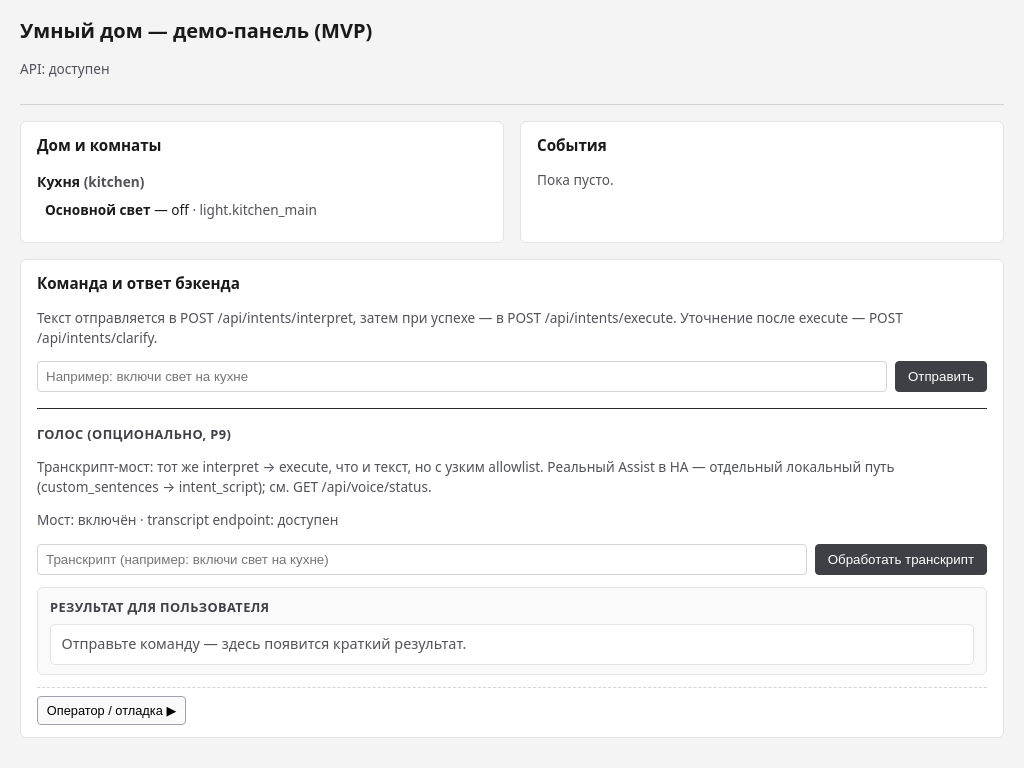
it: App P9 voice transcript strip › loads voice status and submits transcript via POST /api/voice/transcript
Expected: the element with test id "house-state" is shown, [37, 172, 317, 219]
Expected: the text with test id "voice-status-line" shows "Мост: включён", [37, 510, 338, 529]
Type "включи свет на кухне" into the field with test id "voice-transcript-input" at (422, 559), box [37, 544, 807, 575]
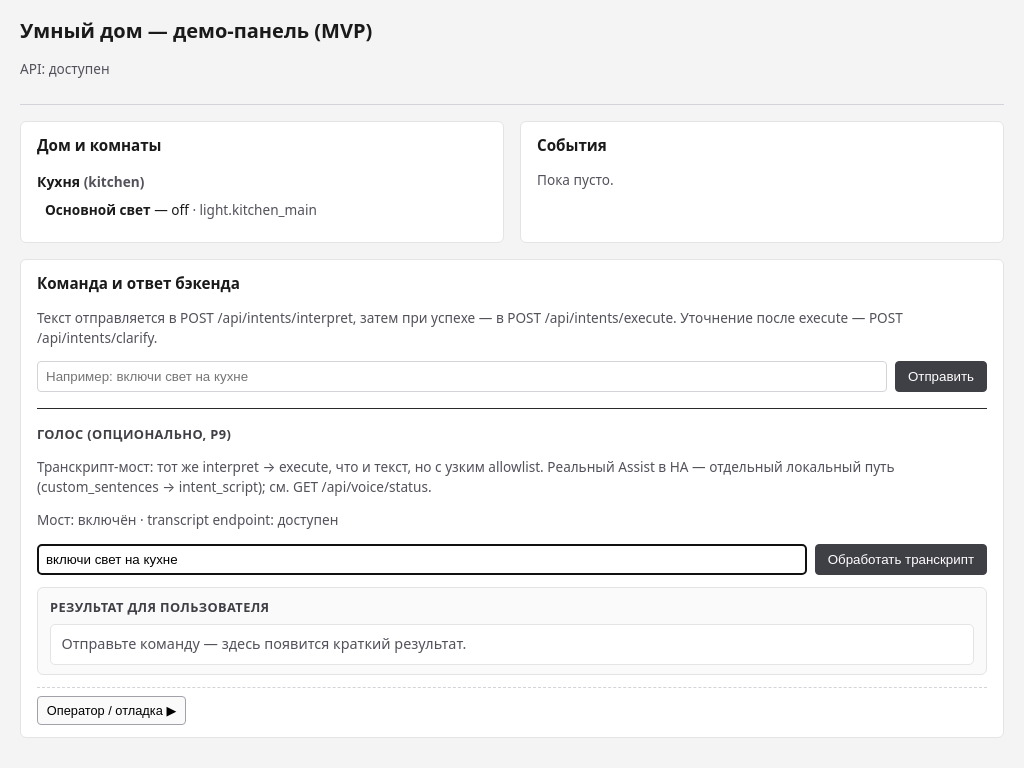
Click the button with test id "voice-transcript-submit" at (901, 559), box [815, 544, 987, 575]
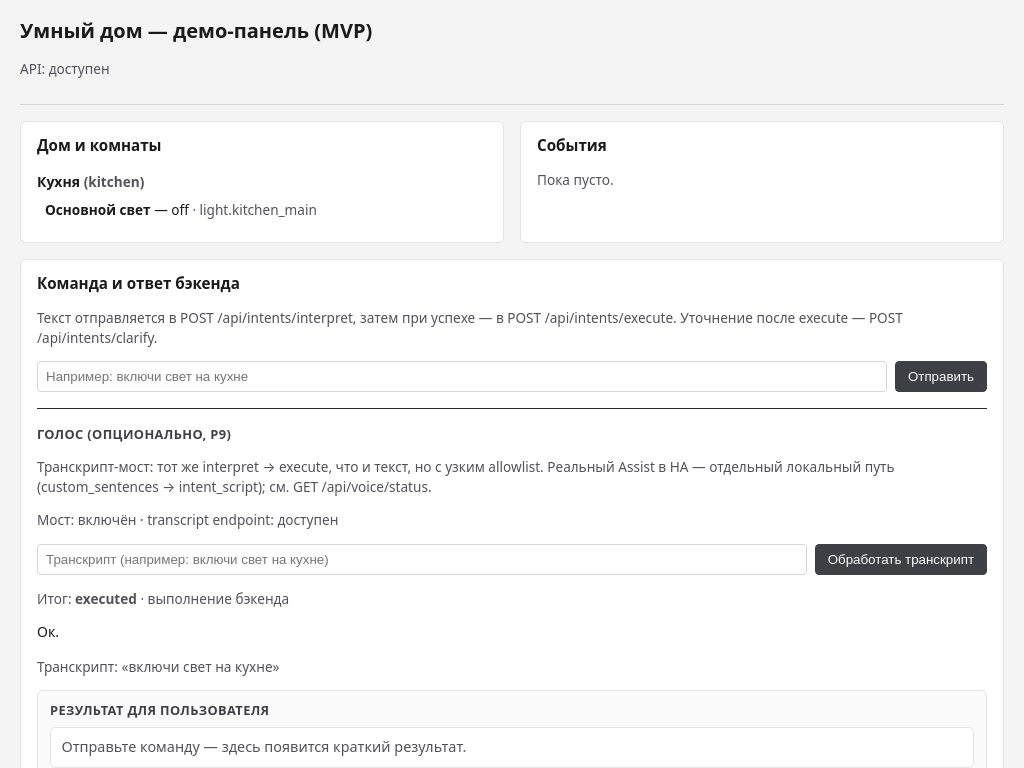
Result: the element with test id "voice-process-outcome" shows "executed" at [75, 589, 137, 608]
